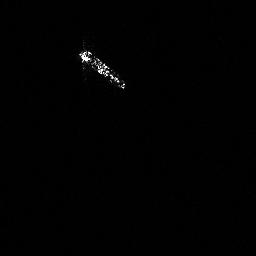ship: (75, 46, 128, 92)
